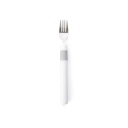Fork: (51, 10, 83, 109)
